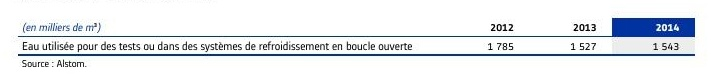table: (0, 0, 712, 79)
